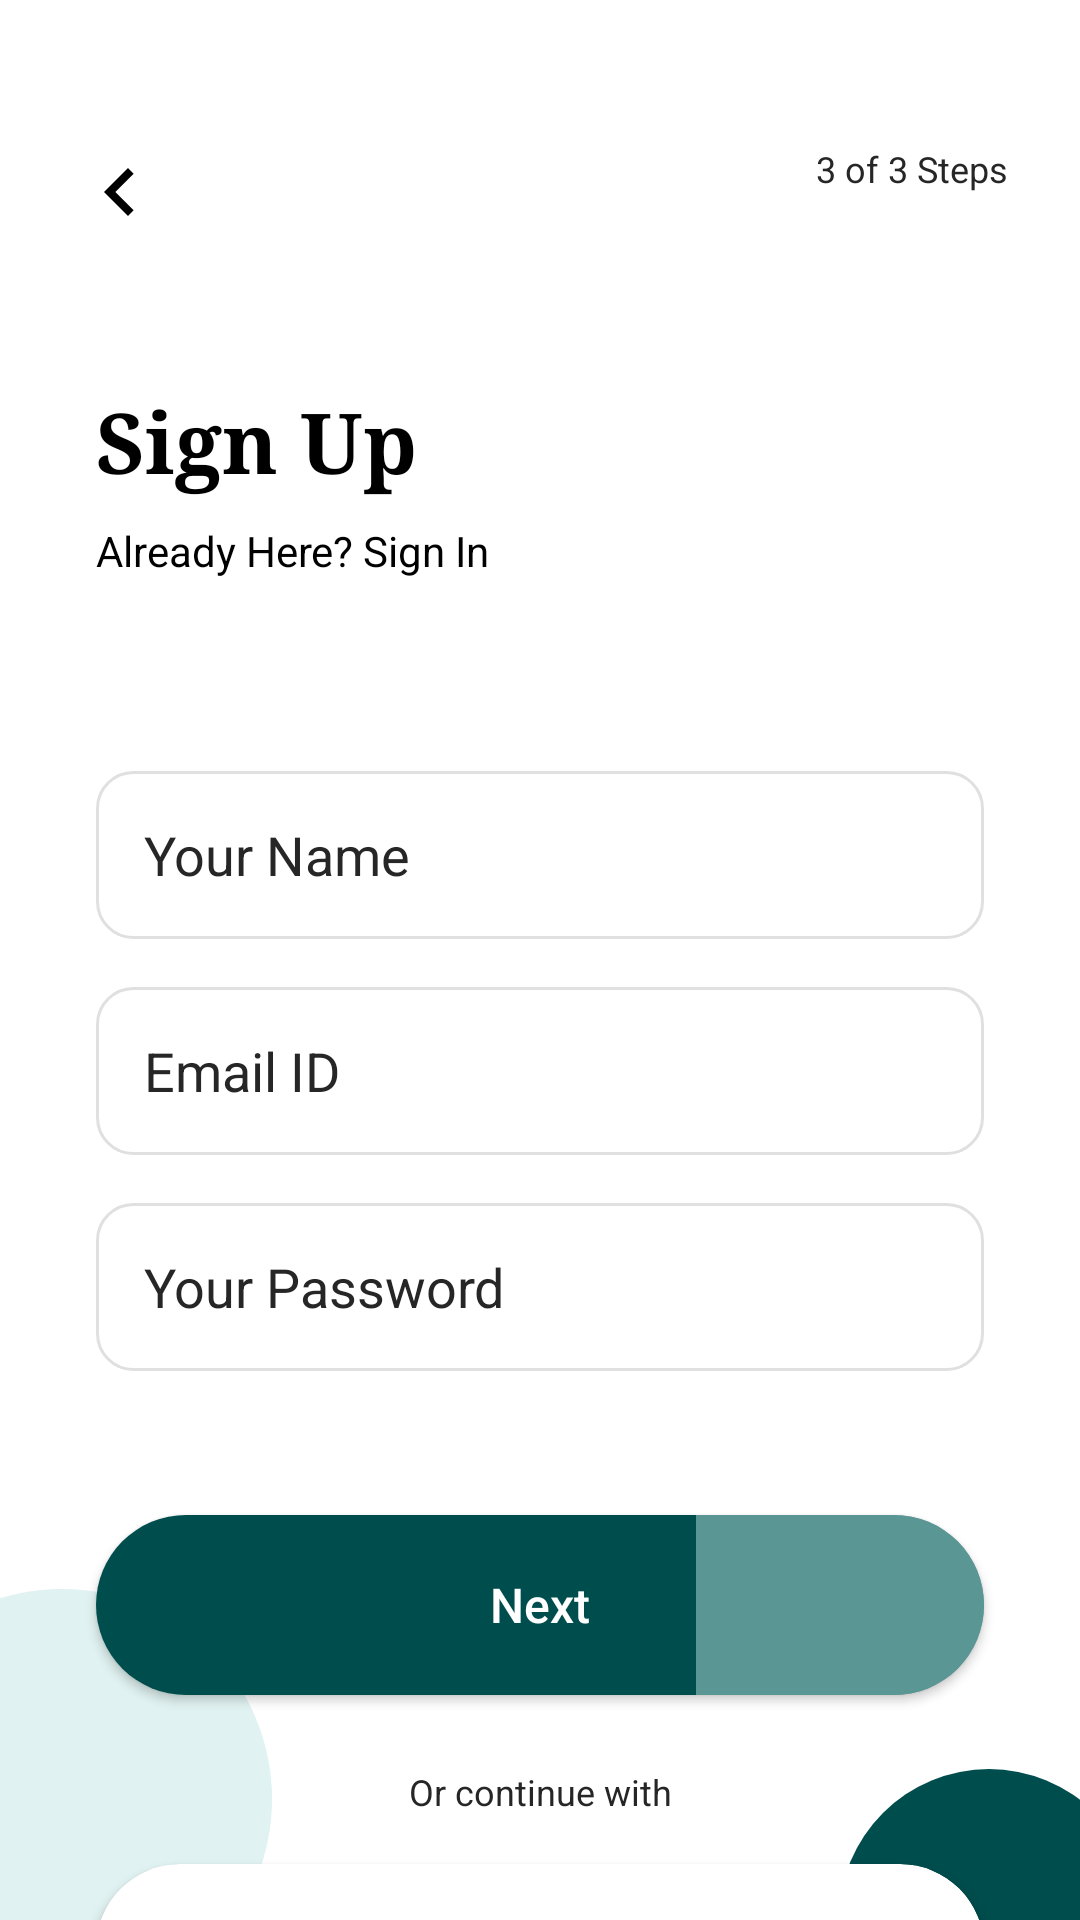

Icon bounding boxes for this 1080px×1920px phone screenshot, format (x1, y1, x2, y2):
arrow back: (104, 168, 134, 216)
